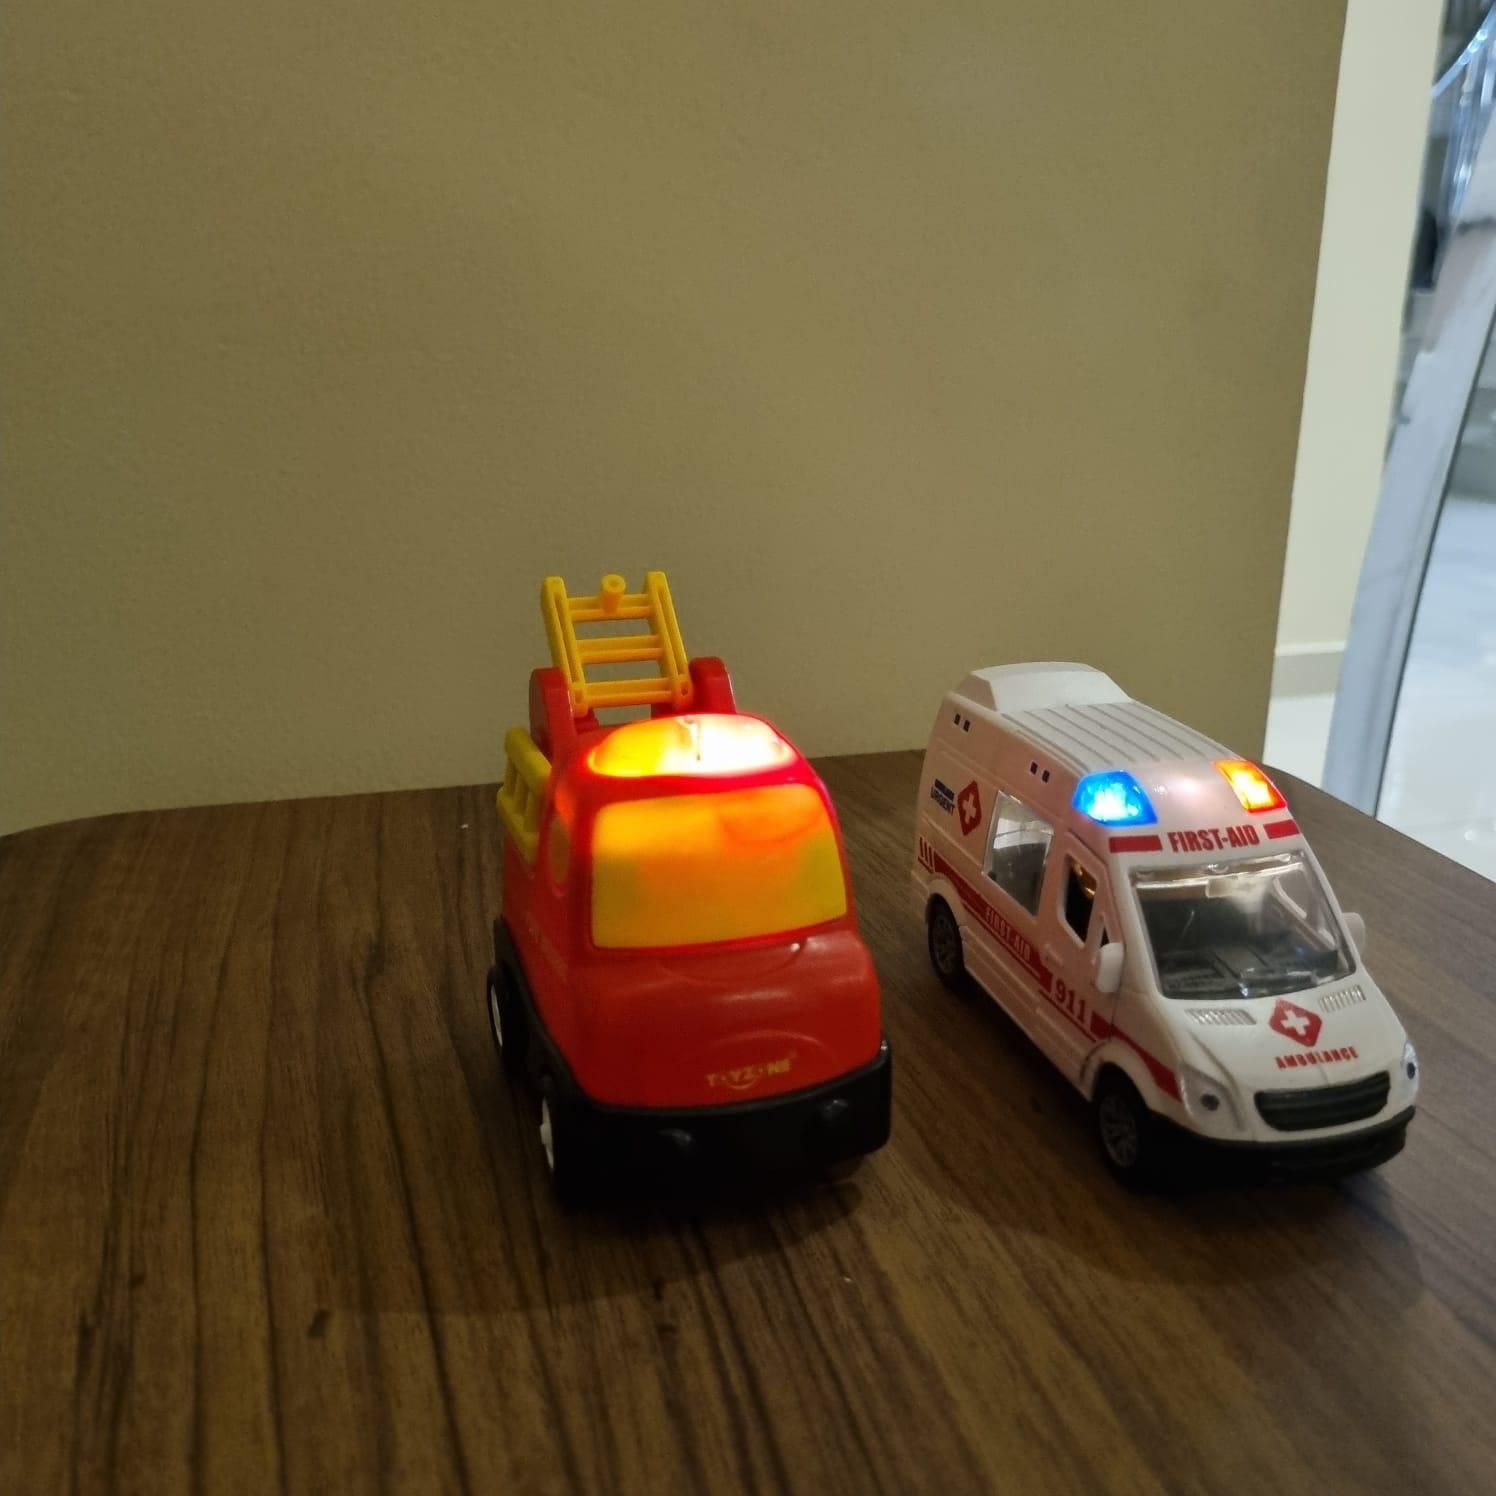ambulance_on: (912, 663, 1422, 1190)
firetruck_on: (489, 566, 893, 1192)
